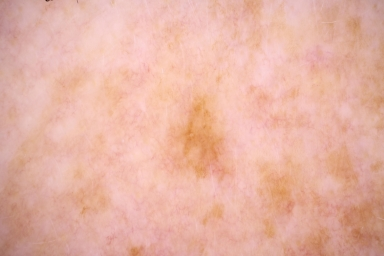melanoma: (180, 99, 234, 184)
